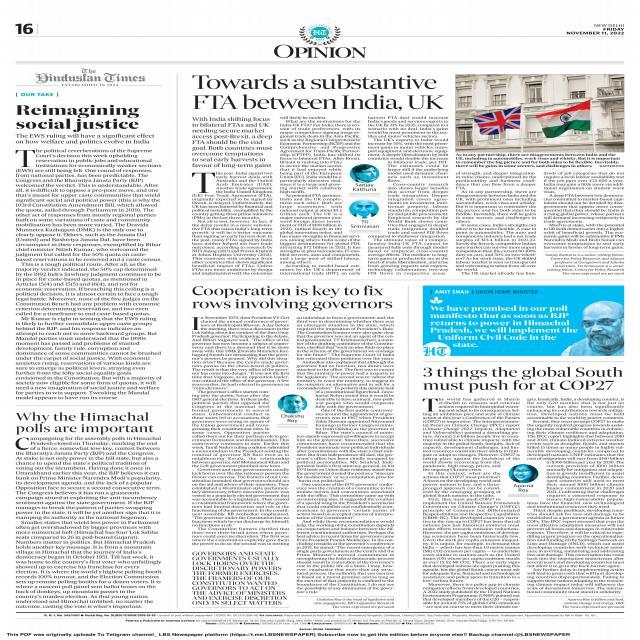Article: (185, 70, 628, 278), (185, 282, 398, 610), (416, 363, 629, 611), (8, 90, 170, 402), (10, 408, 168, 611)
Body: (14, 148, 165, 401), (15, 436, 164, 611), (296, 435, 396, 594), (190, 435, 290, 546), (422, 501, 520, 609), (526, 502, 626, 594), (190, 171, 275, 277), (454, 170, 537, 278), (191, 315, 291, 389), (296, 316, 395, 390), (542, 170, 626, 250), (526, 397, 626, 460), (421, 398, 521, 460), (386, 160, 449, 234), (280, 160, 343, 234), (278, 116, 362, 160), (366, 116, 449, 160), (190, 390, 272, 434), (314, 390, 395, 434), (278, 234, 362, 276), (367, 234, 449, 276), (421, 461, 504, 502), (546, 460, 626, 500)
Date: (564, 26, 626, 36)
Heading: (190, 72, 445, 110), (190, 284, 396, 312), (420, 366, 623, 392), (14, 104, 140, 132), (13, 411, 156, 435)
Highlights: (428, 305, 578, 348), (190, 550, 290, 606), (190, 115, 272, 169), (15, 132, 156, 144)
Image: (455, 74, 625, 152), (581, 300, 624, 356), (348, 164, 380, 184), (508, 464, 540, 483), (348, 200, 379, 218), (278, 393, 306, 412)
Name: (29, 67, 146, 84), (268, 44, 366, 60)
